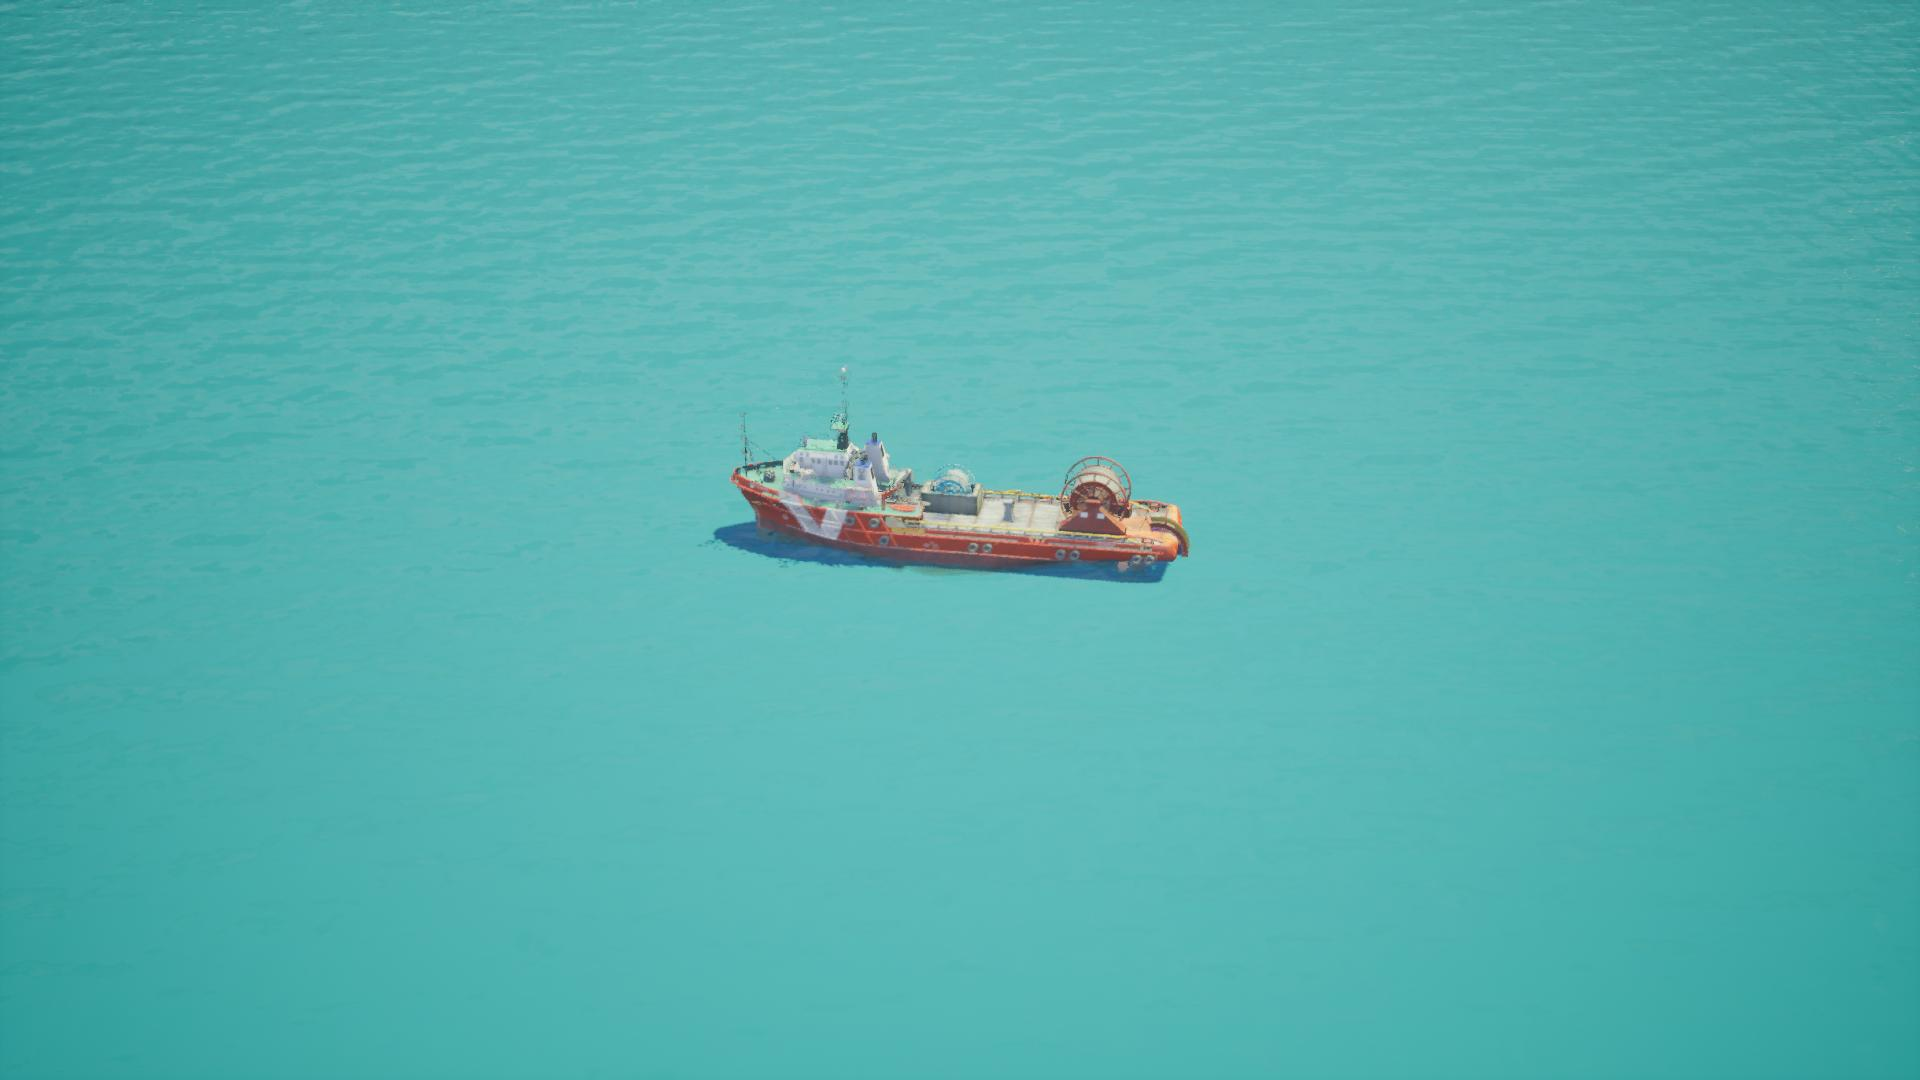Tug Boat: (747, 328, 1245, 710)
